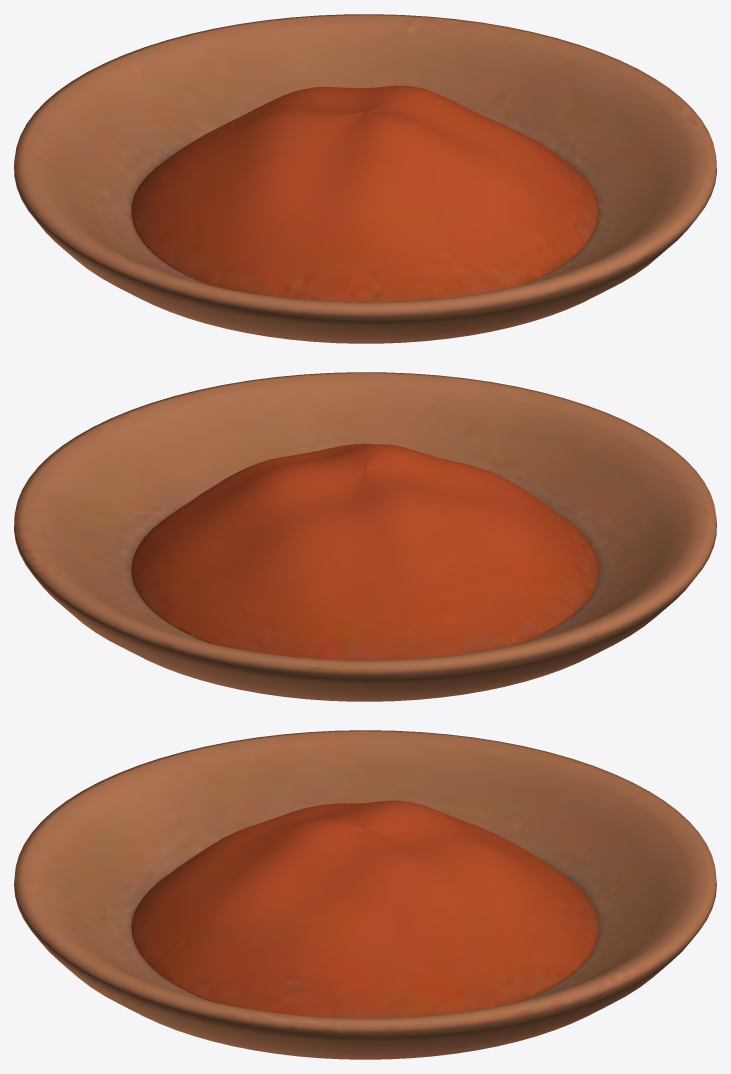
Rendered from minium.glb.
3 renders of one model, top to bottom at view 1: azimuth 30°, elevation 25°; view 2: azimuth 150°, elevation 25°; view 3: azimuth 270°, elevation 25°, orthographic.
Parts seen in each view (by area): view 1: minium; view 2: minium; view 3: minium.
Part boxes in pixels (x1,y1,x2,y2): minium: (14, 14, 716, 343); minium: (14, 372, 716, 701); minium: (14, 730, 716, 1059).
Size of the model in its own units: 0.0901 by 0.0216 by 0.0901.
1 material, 1 textured.
